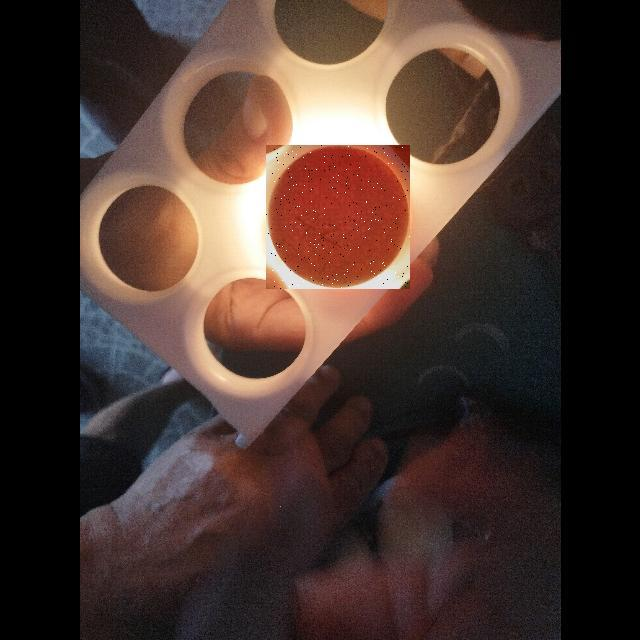Infertile: (266, 145, 410, 289)
